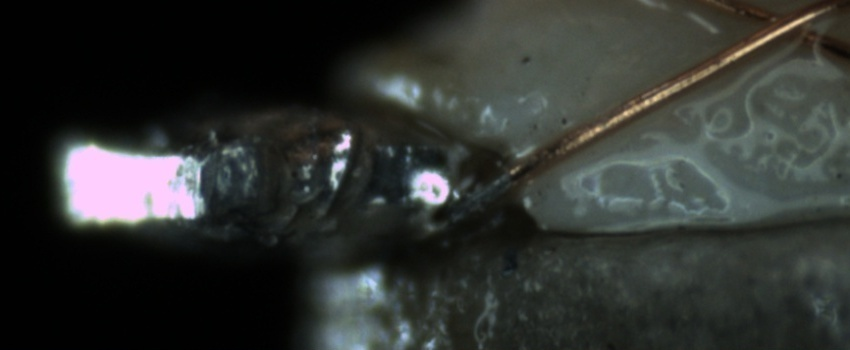CL: (712, 0, 849, 64)
